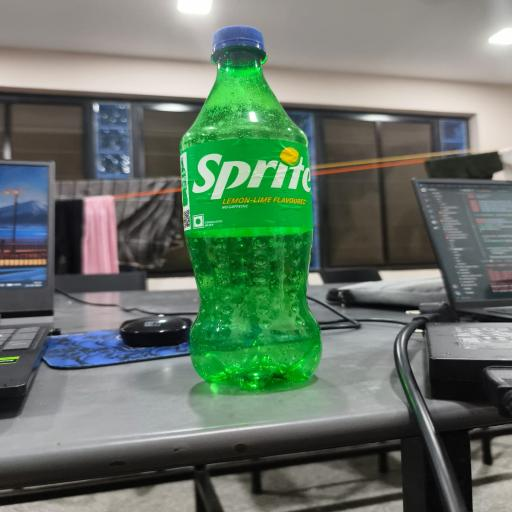Sprite: (180, 26, 322, 390)
